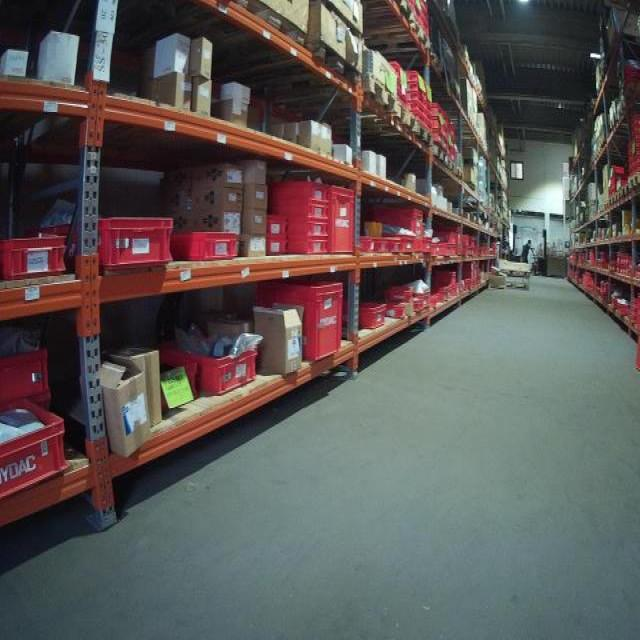pallet: (169, 4, 309, 70), (242, 44, 367, 94), (294, 76, 401, 123), (333, 112, 433, 148), (364, 23, 439, 69), (325, 2, 413, 28), (374, 140, 448, 166), (402, 160, 458, 176), (436, 170, 465, 182), (629, 167, 640, 190), (621, 179, 632, 199), (605, 192, 616, 211), (615, 184, 623, 204)
pallet_truck: (531, 226, 553, 274), (506, 219, 521, 261)
small_load_carrier: (30, 211, 178, 284), (261, 273, 346, 365), (0, 407, 72, 503), (144, 339, 261, 395), (1, 231, 69, 285), (0, 344, 54, 412), (370, 201, 424, 257), (166, 227, 241, 267), (270, 216, 324, 255), (328, 182, 355, 254), (264, 177, 330, 203), (356, 300, 388, 335), (427, 268, 460, 299), (263, 203, 330, 215), (364, 237, 393, 263), (382, 283, 415, 304), (391, 231, 414, 258), (349, 236, 375, 259), (438, 231, 463, 254), (382, 304, 408, 324), (388, 59, 408, 85), (265, 215, 288, 237), (422, 246, 442, 268), (393, 87, 409, 111), (383, 240, 403, 258), (400, 71, 424, 84), (265, 237, 285, 251), (414, 290, 431, 306), (406, 94, 424, 107), (409, 107, 424, 120), (436, 247, 453, 257), (407, 85, 425, 94), (424, 236, 432, 253), (442, 287, 451, 301), (412, 298, 422, 310)
